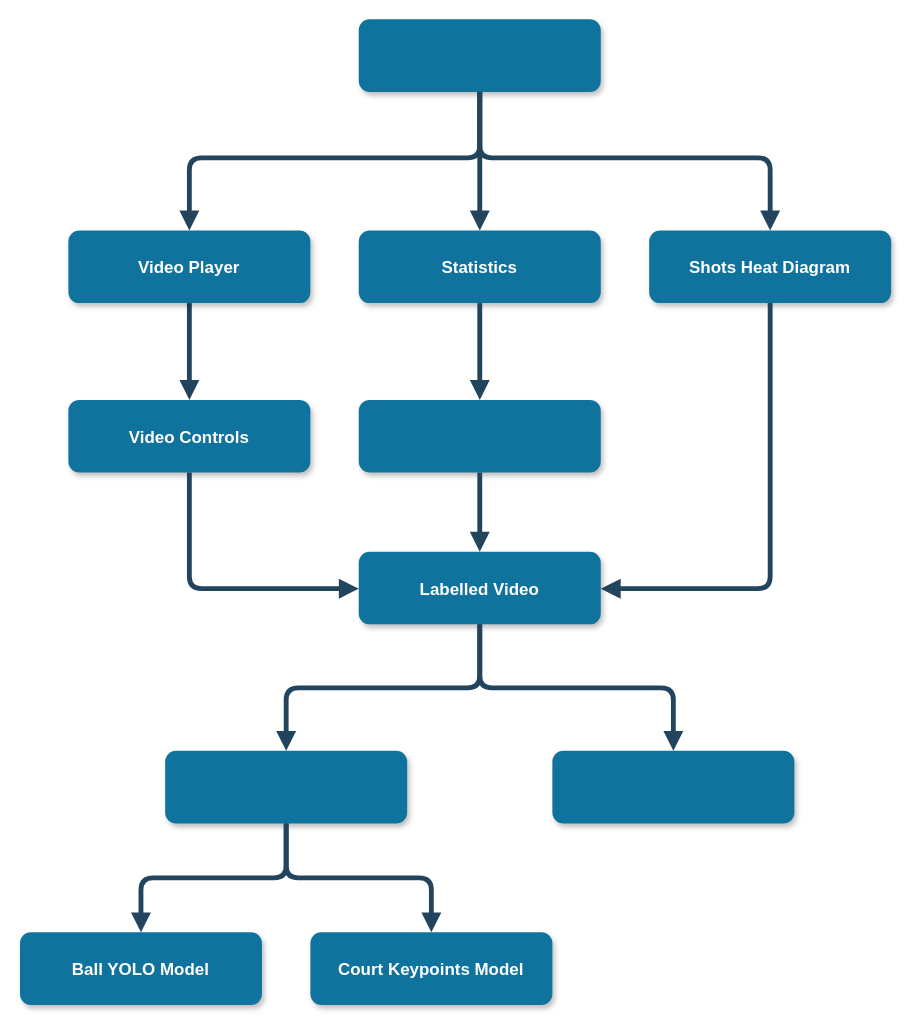
The diagram is 911 pixels wide and 1025 high, and some of its shapes have lost their labels. Each missing label, with the centre of its shape:
"Ball Detection Model" goes at (x=287, y=788).
"Calculate speed of players and balls" goes at (x=480, y=437).
"Player YOLO Model" goes at (x=674, y=788).
"Tennis Analysis Tool" goes at (x=480, y=57).
